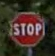stop: (8, 11, 45, 47)
